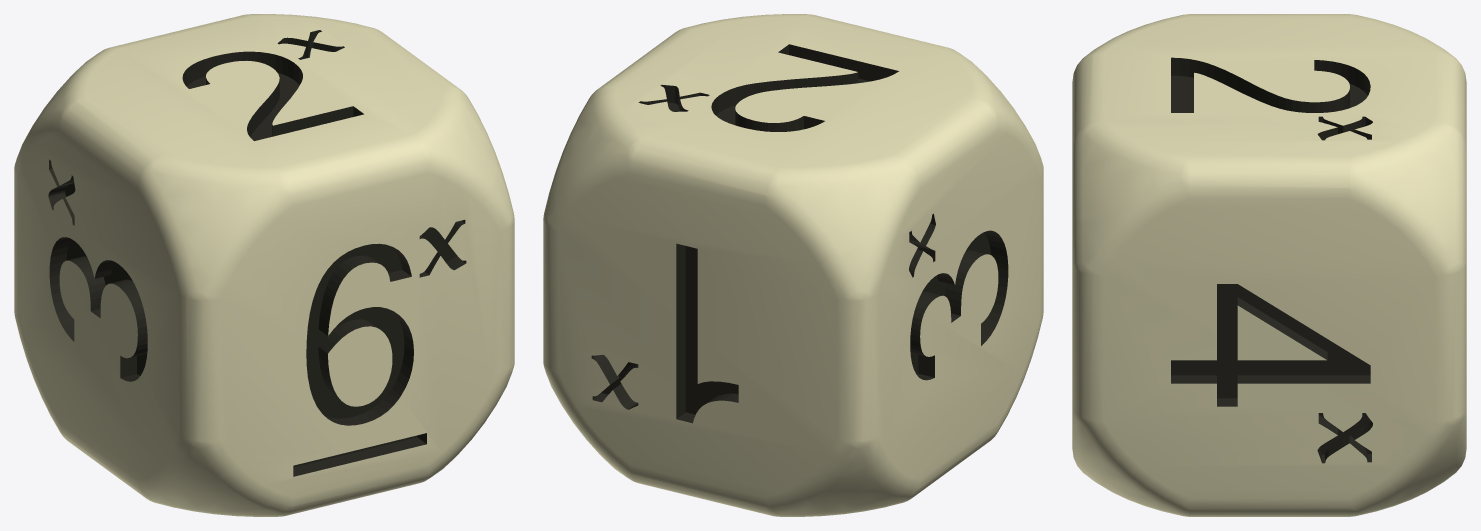
Rendered from DieX.glb.
3 views of the same model, side by side, from view 1: azimuth 30°, elevation 25°; view 2: azimuth 150°, elevation 25°; view 3: azimuth 270°, elevation 25° (orthographic). The views are drawn at different scales.
Parts seen in each view (by area): view 1: Die_Body; view 2: Die_Body; view 3: Die_Body.
Boxes of the visible parts, x1,y1,x2,y2 form: Die_Body: (14, 14, 514, 516); Die_Body: (543, 14, 1043, 516); Die_Body: (1072, 14, 1466, 516).
Bounding box in the file's own units: 1 × 1 × 1.
